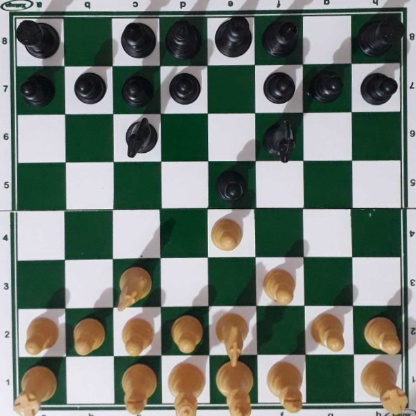black-bishop: (260, 17, 300, 55), (117, 22, 157, 59)
black-king: (211, 14, 252, 55)
black-knight: (262, 117, 296, 161), (124, 116, 156, 155)
black-pawn: (360, 69, 396, 105), (214, 166, 247, 201), (263, 67, 295, 103), (168, 68, 199, 105), (73, 69, 105, 104), (311, 67, 342, 102), (20, 72, 53, 104), (122, 71, 152, 106)
black-queen: (164, 18, 202, 59)
black-rook: (358, 10, 401, 55), (12, 16, 59, 57)
white-bishop: (119, 364, 159, 416), (265, 361, 302, 411)
white-king: (216, 358, 254, 414)
white-knight: (214, 311, 250, 367), (115, 263, 151, 309)
white-pawn: (363, 313, 400, 352), (310, 310, 346, 350), (23, 314, 58, 354), (70, 315, 105, 353), (260, 266, 295, 304), (120, 316, 154, 354), (169, 312, 202, 351), (209, 215, 242, 250)
white-queen: (166, 361, 204, 416)
white-rook: (362, 358, 405, 414), (15, 360, 55, 416)
